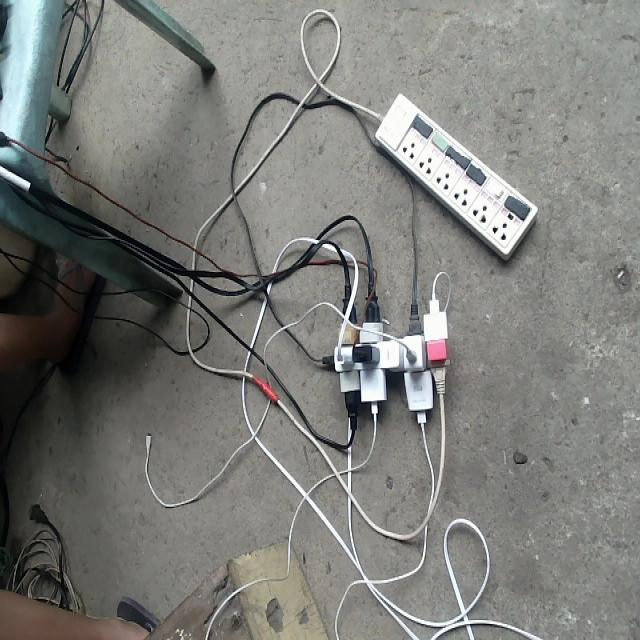-: (320, 268, 451, 432)
